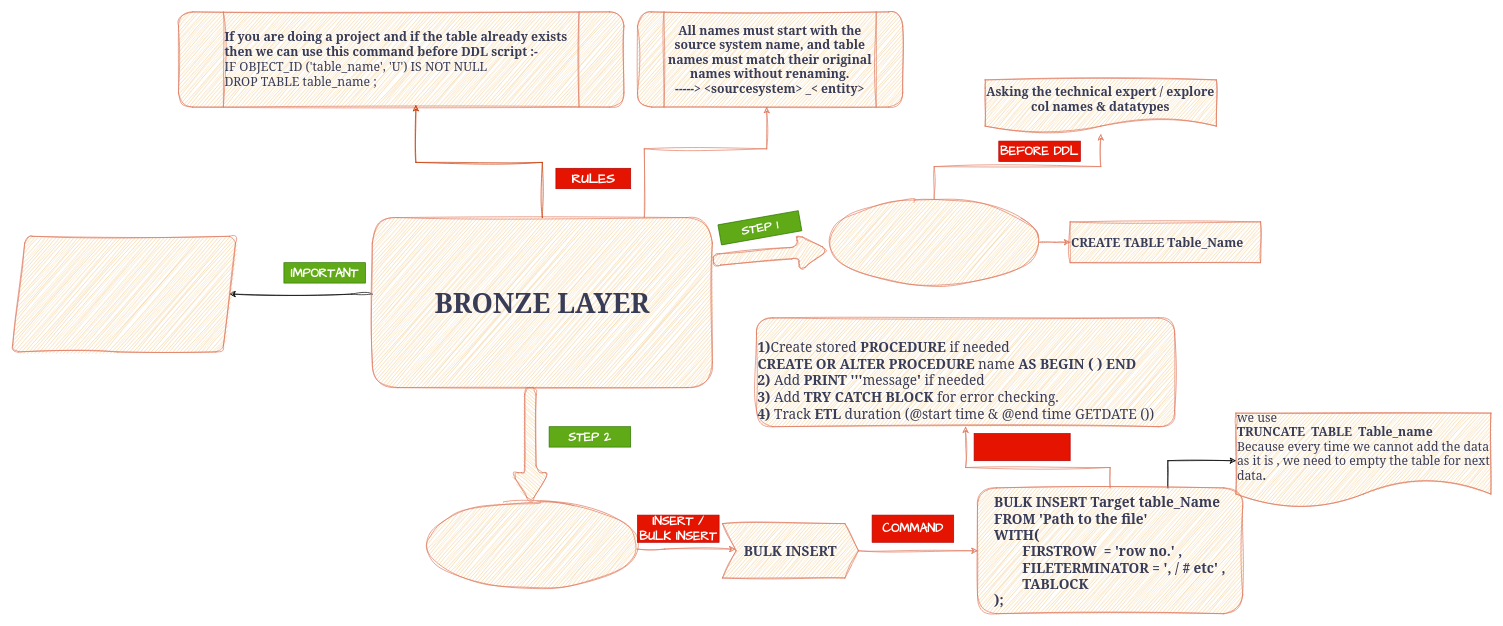
The diagram is 1503 pixels wide and 626 high, and some of its shapes have lost their labels. Each missing label, with the centre of its shape:
Before going to the bronze analyze the data and ask the team about the data: point (123, 294)
Create Tables using DDL Commands: point (934, 242)
Develop SQL load scripts: point (532, 544)
Extra operations: point (1021, 447)
